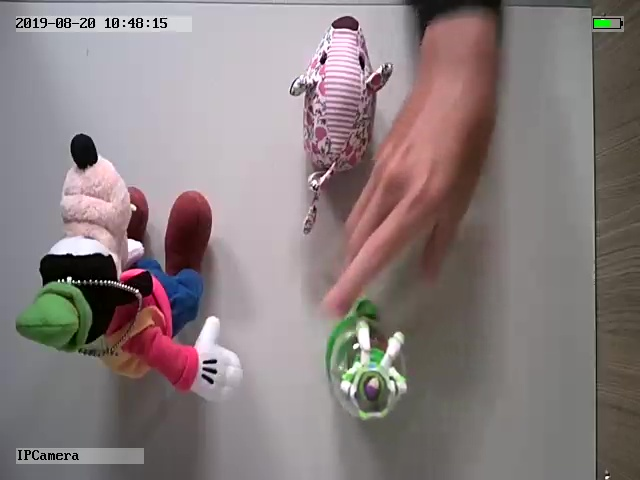buzz: (325, 299, 412, 423)
goofy: (15, 132, 247, 403)
pig: (288, 14, 397, 237)
